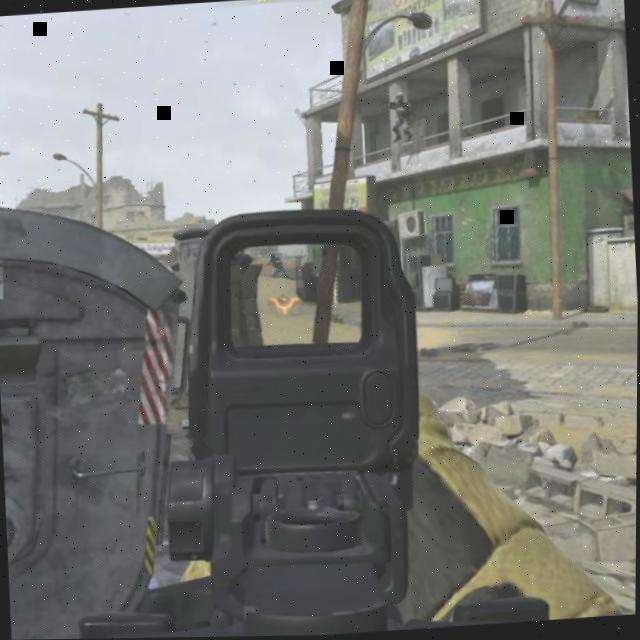MW2_body: (388, 93, 416, 145)
